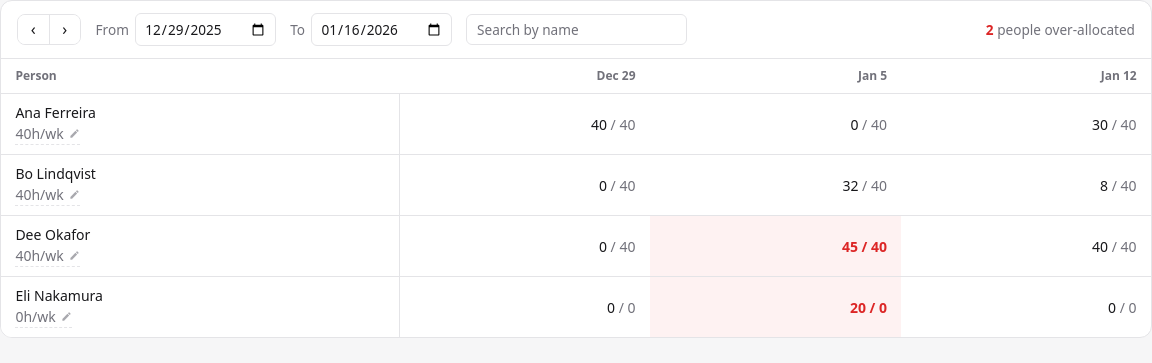
Test: editing capacity › saves on Enter and updates the row in place
Expected: the column heading "Ana Ferreira 40h/wk" is shown, [1,94,400,155]
Click the button "40h/wk" below "Ana Ferreira". click: [48, 135]
box: [15,124,80,145]
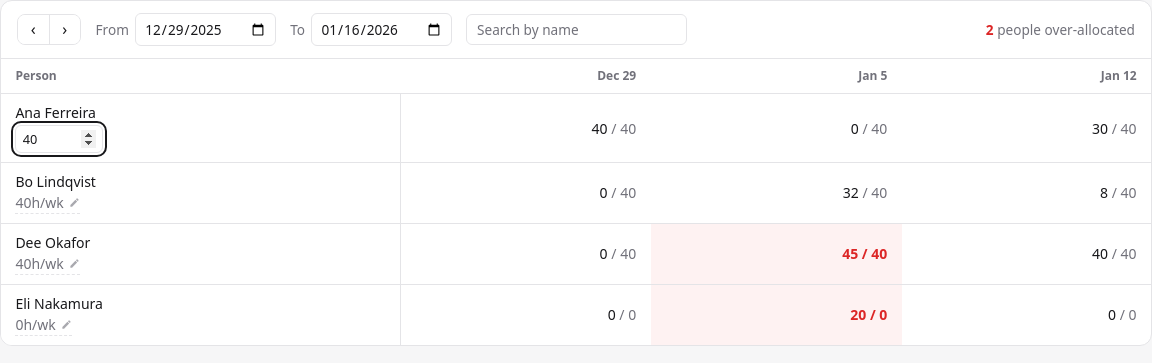
Replace the text in the number field named "Weekly hours for Ana Ferreira" with "50". click: [59, 139]
box: [15,125,103,153]
Then press Enter
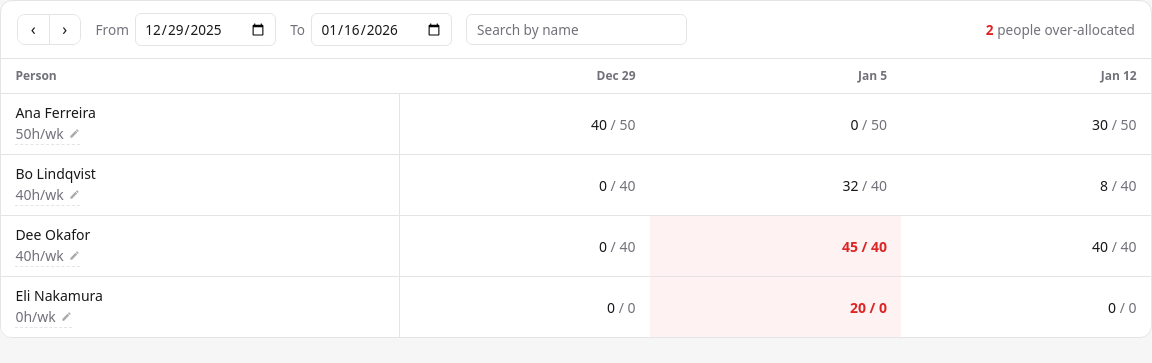
Expected: the button "50h/wk" is shown, [15,124,80,145]
